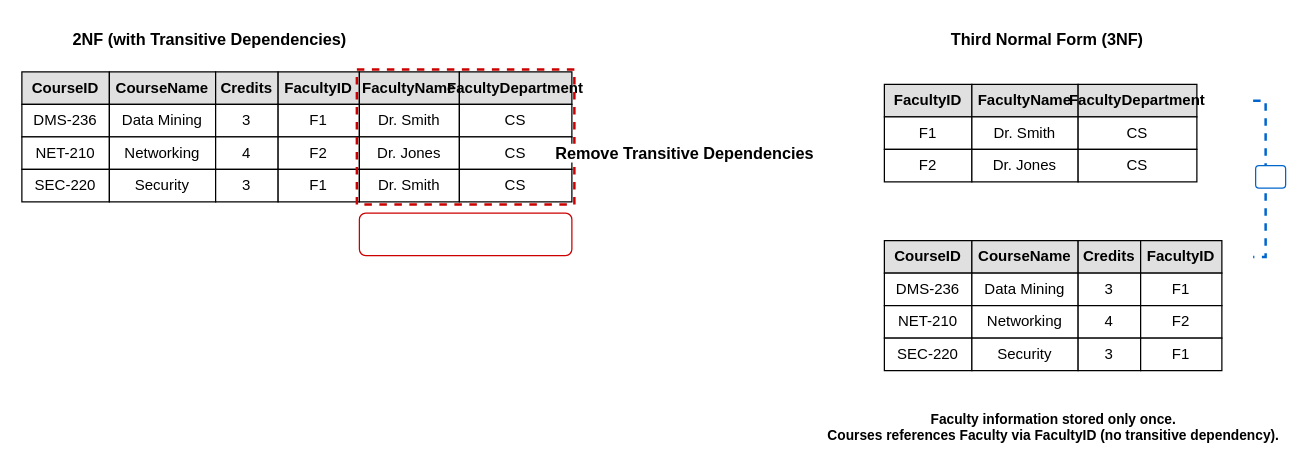
Image size: 1308x469. Some labels were removed from this diagram. The shapes that lost their labels are listed below. From the top down, each one's centre as x and y in pixels, then its label:
pixel 1270 176: FK
pixel 465 234: Transitive dependency: FacultyID → FacultyName, FacultyDepartment
